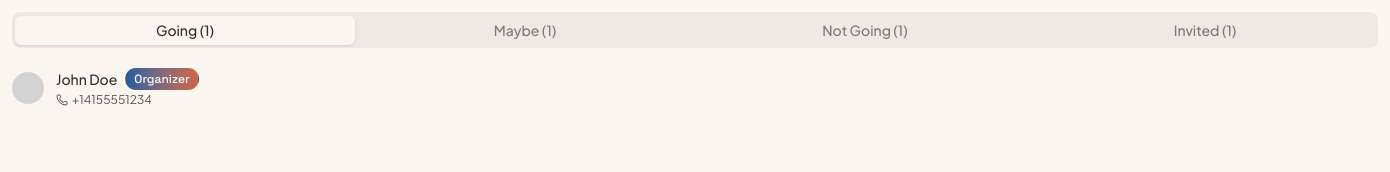
MembersList › Not Going tab content › renders not_going members when tab is clicked
What coordinates should you click on to do the following:
click the tab "Not Going (1)"
I would click on:
 (865, 30)
Its box is x1=695 y1=16 x2=1035 y2=44.
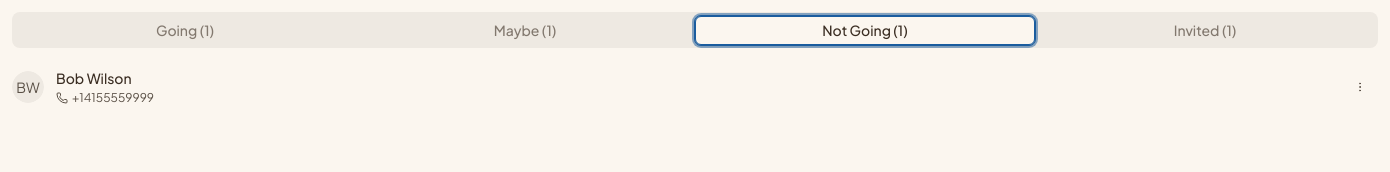
Check: the text "Bob Wilson" is shown, box x1=56 y1=68 x2=132 y2=88
